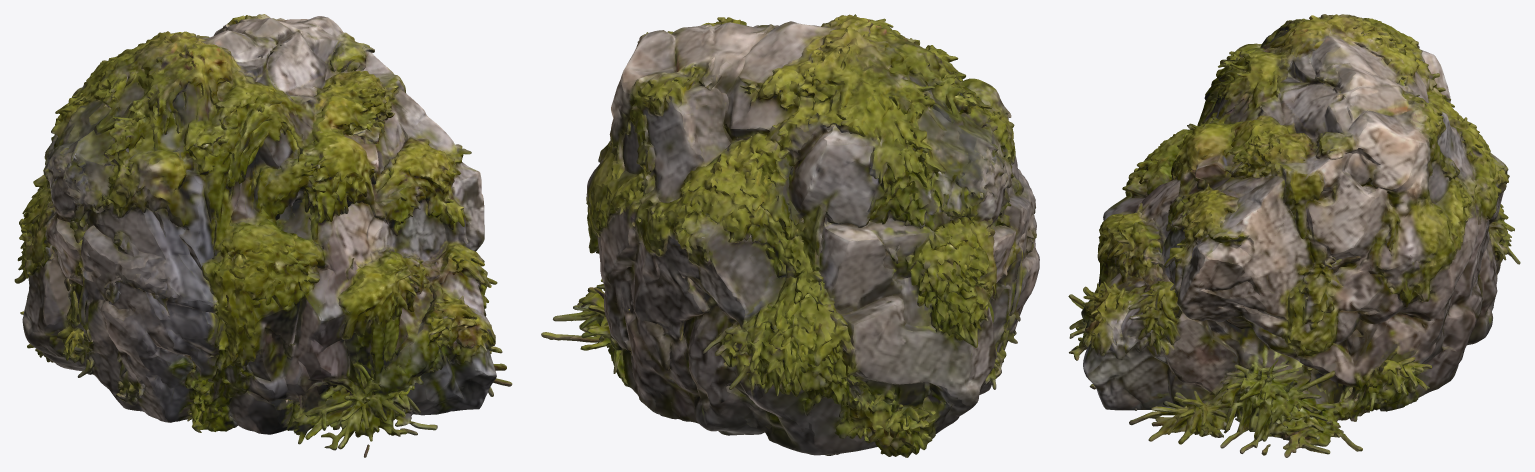
File: MossyRock_01.fbx
The picture shows the model from 3 angles, left to right: view 1: azimuth 30°, elevation 25°; view 2: azimuth 150°, elevation 25°; view 3: azimuth 270°, elevation 25°; orthographic projection. The views are drawn at different scales.
Parts seen in each view (by area): view 1: geometry_0; view 2: geometry_0; view 3: geometry_0.
Boxes of the visible parts, x1=… form: geometry_0: x1=14, y1=14, x2=512, y2=457; geometry_0: x1=541, y1=14, x2=1039, y2=457; geometry_0: x1=1068, y1=14, x2=1520, y2=457.
Bounding box in the file's own units: 45 × 34.65 × 44.73.
